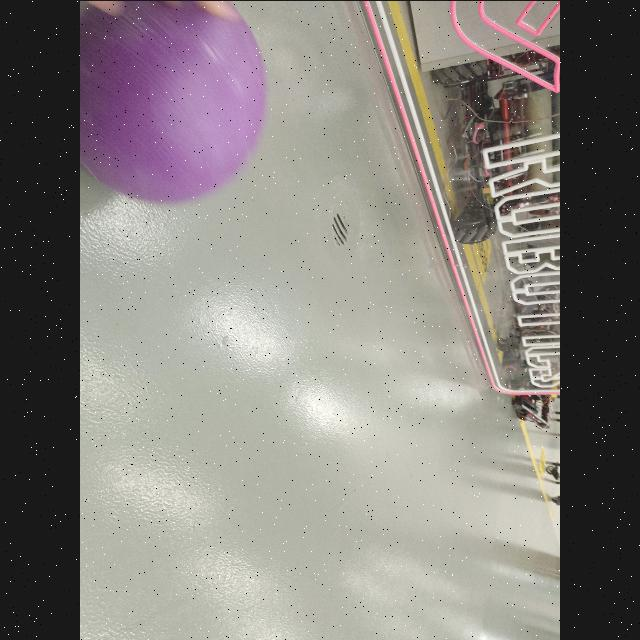R: (80, 1, 268, 206)
